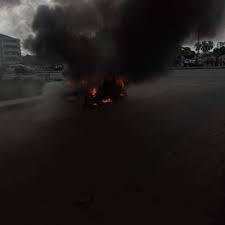fire: (61, 64, 129, 116)
smoke: (0, 0, 225, 91)
